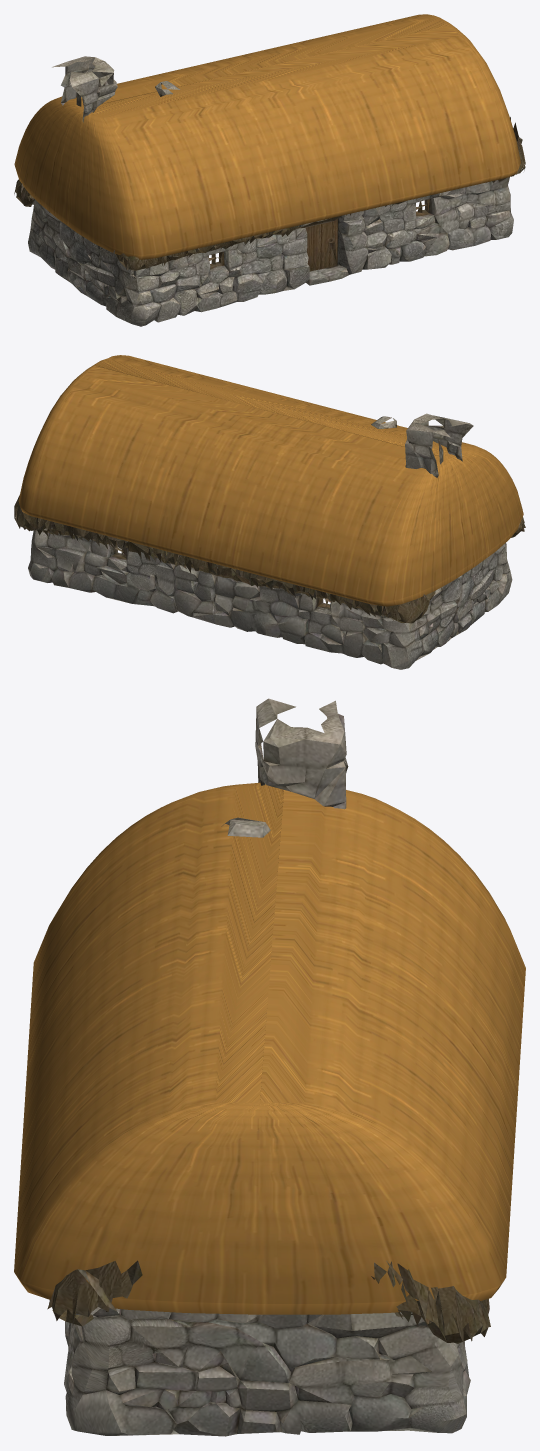
Rendered from poi_croft.glb.
3 views of the same model, one above another, from view 1: azimuth 30°, elevation 25°; view 2: azimuth 150°, elevation 25°; view 3: azimuth 270°, elevation 25° (orthographic). The views are drawn at different scales.
Parts seen in each view (by area): view 1: poi_croft; view 2: poi_croft; view 3: poi_croft.
Boxes of the visible parts, <box> form: poi_croft: <box>14,14,525,326</box>; poi_croft: <box>14,355,525,669</box>; poi_croft: <box>14,698,525,1436</box>.
Bounding box in the file's own units: 11.08 × 5.41 × 6.44.
2 materials, 2 textured.
